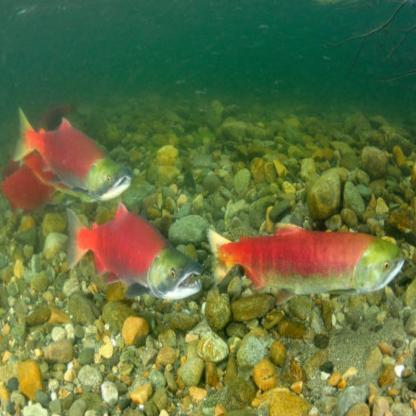sockeye: (209, 217, 408, 301), (68, 207, 202, 310), (18, 107, 136, 200)
